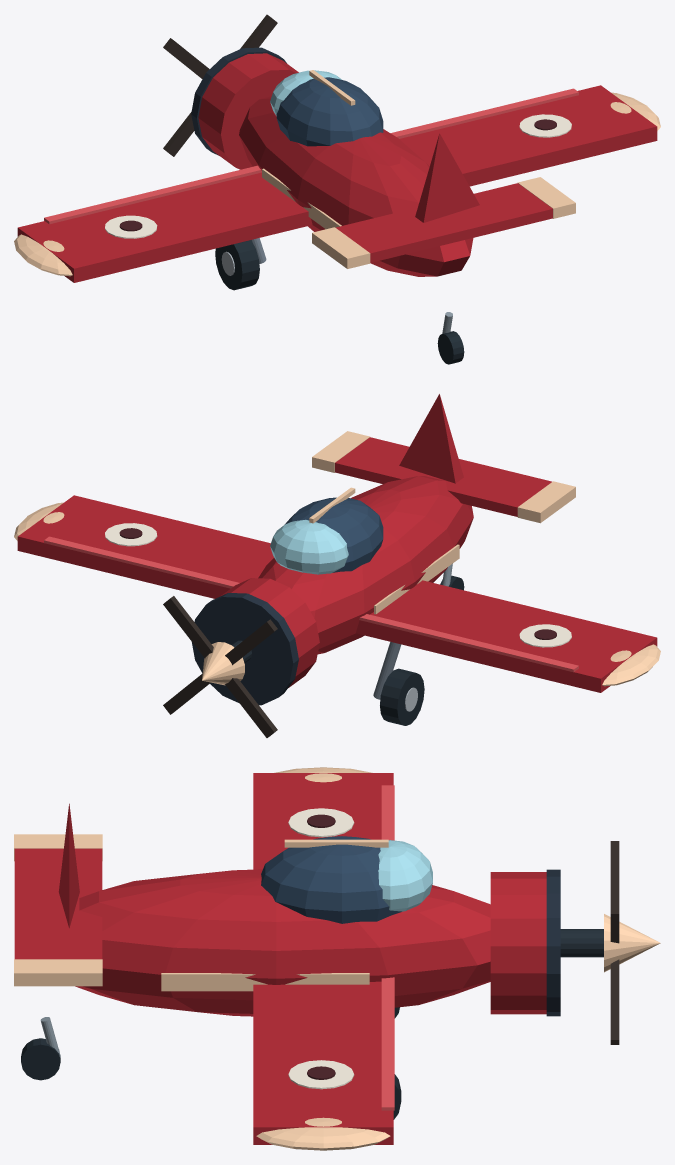
The model's file is red-enemy-plane.glb.
3 views of the same model, one above another, from view 1: azimuth 30°, elevation 25°; view 2: azimuth 150°, elevation 25°; view 3: azimuth 270°, elevation 25° (orthographic). The views are drawn at different scales.
Visible parts, largest first — view 1: Main wing, Tapered fuselage, Tailplane, Engine cowling, Canopy, Wing leading edge (×2), Upright tail fin, Rounded wing tip (×2), Wing roundel (×2), Main tire, Tailplane tip left, Engine rim (+6 smaller); view 2: Main wing, Tapered fuselage, Engine rim, Tailplane, Wing leading edge (×2), Blue windshield, Canopy, Engine cowling, Upright tail fin, Rounded wing tip (×2), Propeller blade B, Main tire (+7 smaller); view 3: Tapered fuselage, Main wing, Tailplane, Canopy, Engine cowling, Rounded wing tip (×2), Blue windshield, Side stripe, Wing leading edge (×2), Wing roundel (×2), Tailplane tip right, Engine rim (+7 smaller).
Boxes of the visible parts, x1=… form: Main wing: x1=17, y1=85, x2=657, y2=282; Tapered fuselage: x1=239, y1=96, x2=473, y2=276; Tailplane: x1=336, y1=183, x2=552, y2=262; Engine cowling: x1=198, y1=53, x2=298, y2=169; Canopy: x1=276, y1=77, x2=383, y2=146; Wing leading edge (×2): x1=44, y1=88, x2=578, y2=224; Upright tail fin: x1=415, y1=133, x2=479, y2=222; Rounded wing tip (×2): x1=14, y1=92, x2=660, y2=276; Wing roundel (×2): x1=105, y1=114, x2=571, y2=238; Main tire: x1=215, y1=240, x2=259, y2=290; Tailplane tip left: x1=312, y1=227, x2=370, y2=268; Engine rim: x1=191, y1=47, x2=286, y2=155; Main wing: x1=17, y1=495, x2=657, y2=692; Tapered fuselage: x1=258, y1=476, x2=473, y2=654; Engine rim: x1=192, y1=593, x2=298, y2=705; Tailplane: x1=335, y1=437, x2=551, y2=516; Wing leading edge (×2): x1=44, y1=536, x2=578, y2=672; Blue windshield: x1=270, y1=519, x2=348, y2=574; Canopy: x1=284, y1=497, x2=383, y2=572; Engine cowling: x1=220, y1=578, x2=319, y2=687; Upright tail fin: x1=399, y1=394, x2=463, y2=483; Rounded wing tip (×2): x1=14, y1=502, x2=660, y2=686; Propeller blade B: x1=163, y1=596, x2=277, y2=737; Main tire: x1=380, y1=668, x2=424, y2=725; Tapered fuselage: x1=75, y1=869, x2=490, y2=1016; Main wing: x1=253, y1=773, x2=393, y2=1144; Tailplane: x1=14, y1=848, x2=102, y2=959; Canopy: x1=261, y1=836, x2=401, y2=923; Engine cowling: x1=490, y1=872, x2=546, y2=1014; Rounded wing tip (×2): x1=256, y1=767, x2=390, y2=1150; Blue windshield: x1=378, y1=840, x2=432, y2=911; Side stripe: x1=161, y1=973, x2=369, y2=991; Wing leading edge (×2): x1=381, y1=785, x2=394, y2=1110; Wing roundel (×2): x1=288, y1=808, x2=354, y2=1089; Tailplane tip right: x1=14, y1=959, x2=102, y2=986; Engine rim: x1=546, y1=869, x2=560, y2=1016.
Bounding box in the file's own units: 8.18 × 2.77 × 5.91.
